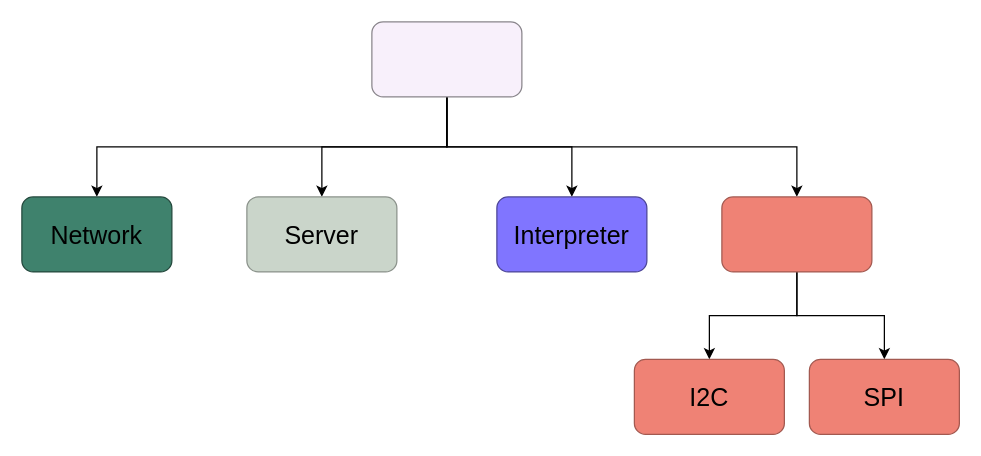
The diagram is 981 pixels wide and 456 high, and some of its shapes have lost their labels. The box of each missing label's shape, as (x1, y1, x2, y2) in pixels:
Brain: (371, 21, 522, 97)
Expansion: (721, 196, 872, 272)
